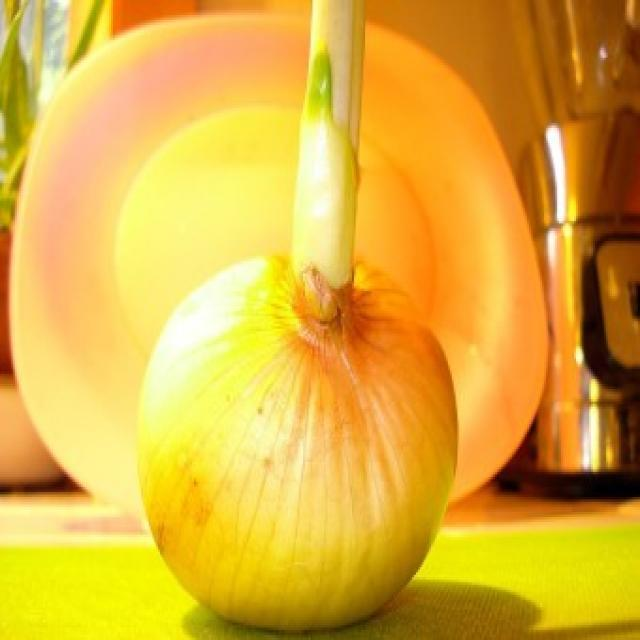Onion: (132, 225, 480, 640)
